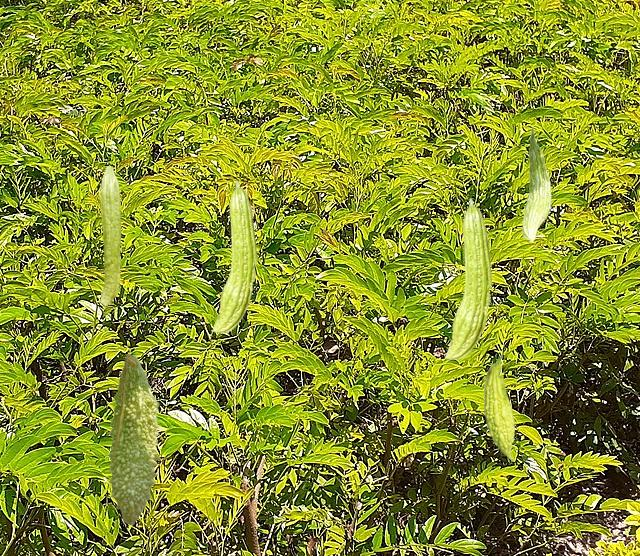ampalaya: (106, 353, 161, 526), (444, 197, 492, 360), (212, 180, 257, 333), (521, 126, 551, 243), (483, 353, 515, 462), (99, 165, 121, 306)
